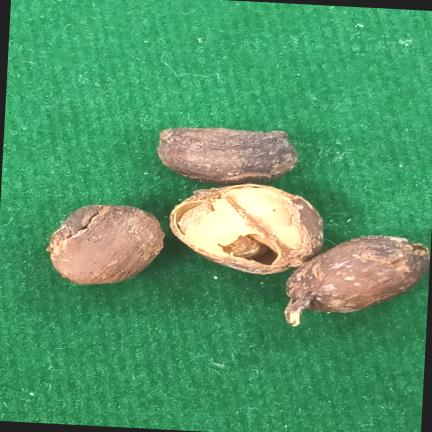husk: (170, 184, 323, 274), (285, 236, 430, 326), (47, 205, 165, 285), (158, 128, 298, 185), (344, 276, 354, 281)
